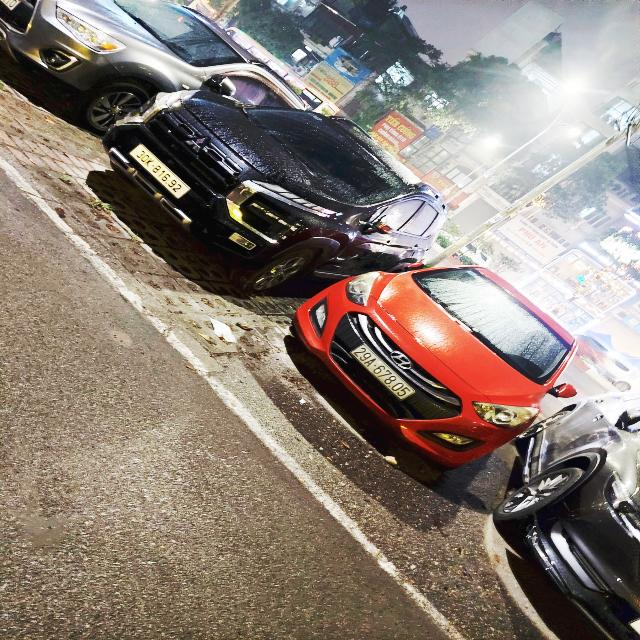license_plate: (351, 343, 419, 401), (129, 143, 194, 201)
